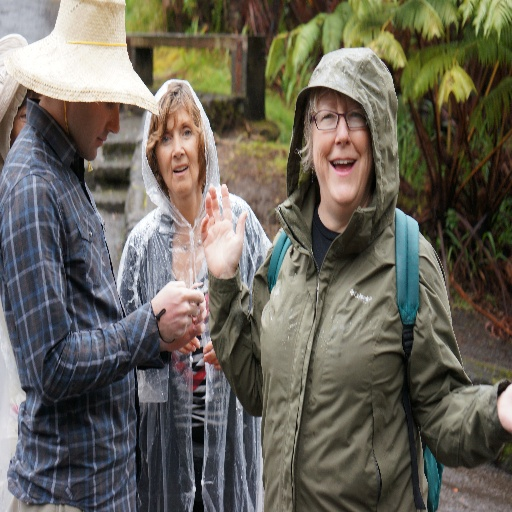hand: (199, 182, 247, 276), (164, 301, 205, 355), (498, 382, 511, 432), (202, 338, 221, 370), (178, 336, 200, 354)
